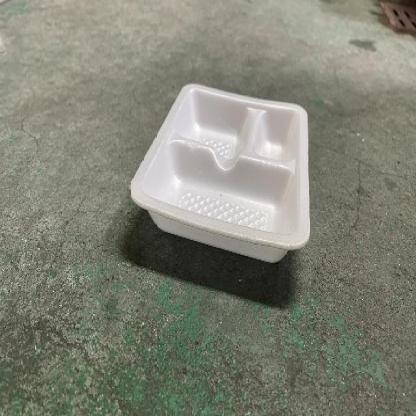Glass Cup: (128, 82, 310, 266), (129, 83, 310, 263)
